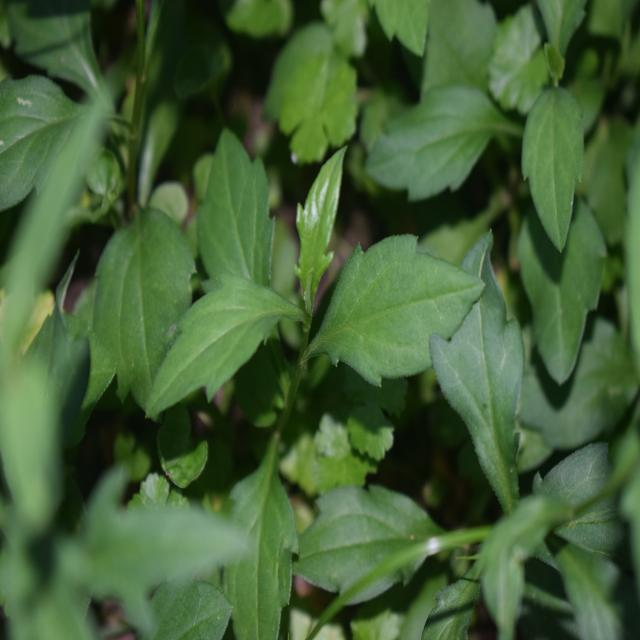Indian aster: (173, 131, 434, 527)
